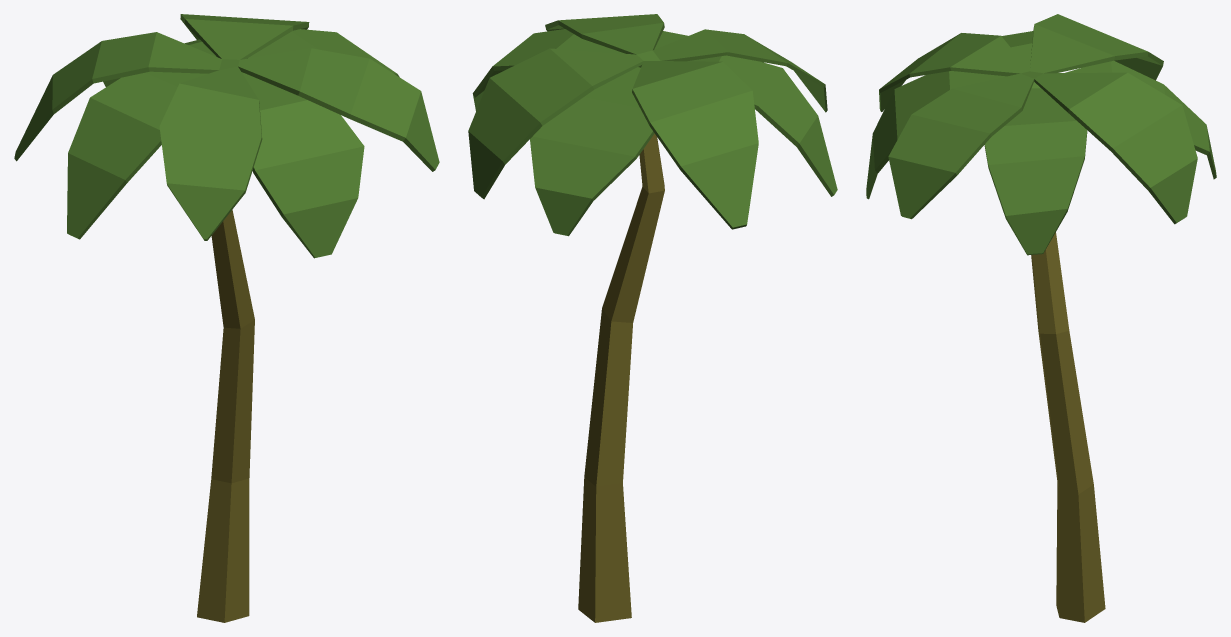
Rendered from Palm_1_low.fbx.
The picture shows the model from 3 angles, left to right: view 1: azimuth 30°, elevation 25°; view 2: azimuth 150°, elevation 25°; view 3: azimuth 270°, elevation 25°; orthographic projection. The views are drawn at different scales.
Parts seen in each view (by area): view 1: Palm_1_low; view 2: Palm_1_low; view 3: Palm_1_low.
Boxes of the visible parts, x1=… form: Palm_1_low: x1=14, y1=14, x2=439, y2=622; Palm_1_low: x1=468, y1=14, x2=837, y2=622; Palm_1_low: x1=866, y1=14, x2=1216, y2=622.
Size of the model in its own units: 2.52 by 4 by 2.35.
